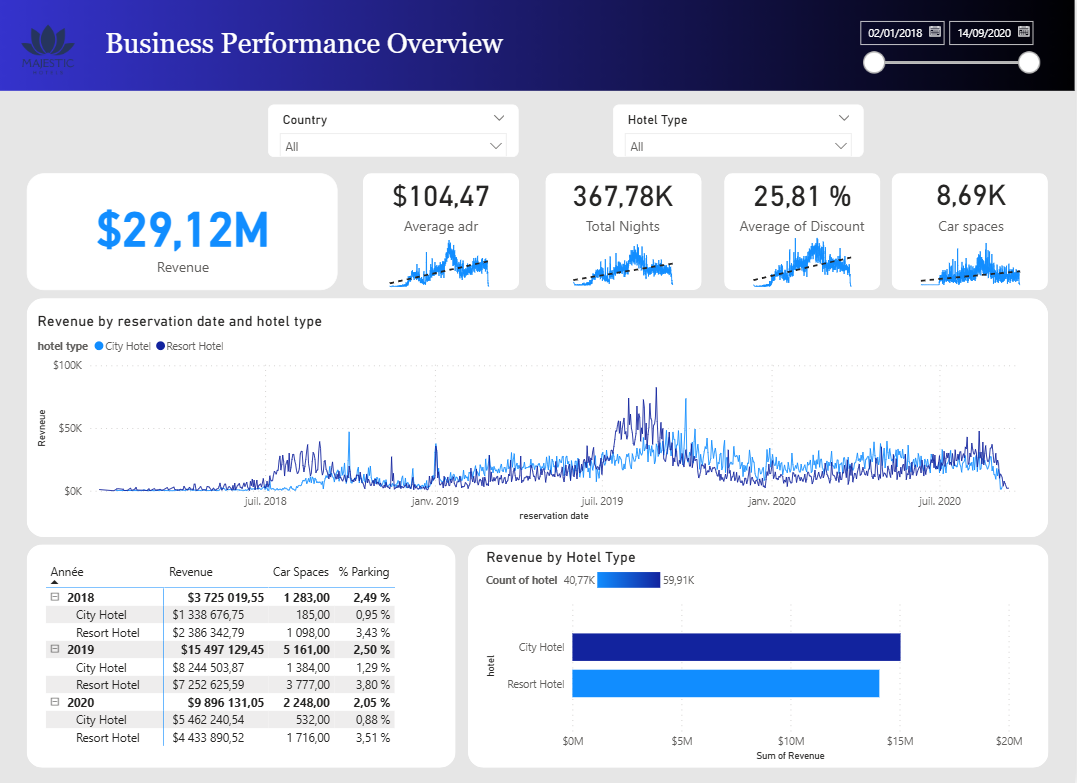

The dashboard page shown, as its layout file describes it:
{"tool":"powerbi","page":{"name":"Page 1","canvas":[1230,900],"ordinal":0},"visuals":[{"type":"image","box":[0,0,1230,123.3],"z":0},{"type":"shape","box":[1021.7,201.7,178.3,133.3],"z":1000},{"type":"shape","box":[830,201.7,178.3,133.3],"z":2000},{"type":"shape","box":[625,201.7,178.3,133.3],"z":3000},{"type":"shape","box":[416.7,201.7,178.3,133.3],"z":4000},{"type":"shape","box":[33.3,625,490,255],"z":5000},{"type":"shape","box":[536.7,625,663.3,255],"z":6000},{"type":"shape","box":[33.3,344.4,1167.1,272.9],"z":7000},{"type":"card","fields":{"Values":["Avg(Requête1.adr)"]},"box":[416.7,183.3,178.3,105],"z":8000},{"type":"card","fields":{"Values":["Sum(Requête1.Revenue)"]},"box":[33.3,201.7,355,133.3],"z":9000},{"type":"card","fields":{"Values":["Requête1.Total Nights"]},"box":[625,183.3,176.7,105],"z":10000},{"type":"card","fields":{"Values":["Avg(Requête1.Discount)"]},"box":[830,183.3,178.3,105],"z":11000},{"type":"lineChart","title":"Revenue by reservation date and hotel type","fields":{"Category":["Requête1.reservation_status_date"],"Y":["Sum(Requête1.Revenue)"],"Series":["Requête1.hotel"]},"box":[40.5,360.1,1144.3,244.3],"z":12000},{"type":"lineChart","fields":{"Category":["Requête1.reservation_status_date"],"Y":["Requête1.Total Nights"]},"box":[643.3,255,143.3,80],"z":13000},{"type":"lineChart","fields":{"Category":["Requête1.reservation_status_date"],"Y":["Sum(Requête1.adr)"]},"box":[433.3,256.7,143.3,80],"z":14000},{"type":"lineChart","fields":{"Category":["Requête1.reservation_status_date"],"Y":["Sum(Requête1.Discount)"]},"box":[848.3,256.7,141.7,80],"z":15000},{"type":"card","fields":{"Values":["Sum(Requête1.required_car_parking_spaces)"]},"box":[1031.7,183.3,161.7,103.3],"z":16000},{"type":"lineChart","fields":{"Category":["Requête1.reservation_status_date"],"Y":["Sum(Requête1.required_car_parking_spaces)"]},"box":[1040,250,143.3,85],"z":17000},{"type":"barChart","title":"Revenue by Hotel Type","fields":{"Category":["Requête1.hotel"],"Y":["Sum(Requête1.Revenue)"]},"box":[553.3,630,623.3,248.3],"z":18000},{"type":"pivotTable","fields":{"Rows":["Requête1.reservation_status_date.Variation.Hiérarchie de dates.Année","Requête1.hotel"],"Values":["Sum(Requête1.Revenue)","Sum(Requête1.required_car_parking_spaces)","Requête1.Parking percentage"]},"box":[50,641.4,455.7,222.9],"z":19000},{"type":"slicer","fields":{"Values":["Requête1.reservation_status_date"]},"box":[973.3,16.7,226.7,85],"z":20000},{"type":"image","box":[0,0,114.3,122.9],"z":21000},{"type":"textbox","box":[116.7,30,500,60],"z":22000},{"type":"slicer","fields":{"Values":["Requête1.country"]},"box":[308.3,123.3,286.7,60],"z":23000},{"type":"slicer","fields":{"Values":["Requête1.hotel"]},"box":[703.3,123.3,286.7,60],"z":24000}]}

Visuals, with their boxes in screenshot pixels (x1, y1, x2, y2), scaled from the page's 1230x900 canvas onto the 1077x783 screenshot:
image: locate(0, 0, 1076, 107)
shape: locate(895, 175, 1051, 291)
shape: locate(727, 175, 883, 291)
shape: locate(547, 175, 703, 291)
shape: locate(365, 175, 521, 291)
shape: locate(29, 544, 458, 766)
shape: locate(470, 544, 1051, 766)
shape: locate(29, 300, 1051, 537)
card - Avg(Requête1.adr): locate(365, 159, 521, 251)
card - Sum(Requête1.Revenue): locate(29, 175, 340, 291)
card - Requête1.Total Nights: locate(547, 159, 702, 251)
card - Avg(Requête1.Discount): locate(727, 159, 883, 251)
"Revenue by reservation date and hotel type" lineChart: locate(35, 313, 1037, 526)
lineChart - Requête1.reservation_status_date x Requête1.Total Nights: locate(563, 222, 689, 291)
lineChart - Requête1.reservation_status_date x Sum(Requête1.adr): locate(379, 223, 505, 293)
lineChart - Requête1.reservation_status_date x Sum(Requête1.Discount): locate(743, 223, 867, 293)
card - Sum(Requête1.required_car_parking_spaces): locate(903, 159, 1045, 249)
lineChart - Requête1.reservation_status_date x Sum(Requête1.required_car_parking_spaces): locate(911, 218, 1036, 291)
"Revenue by Hotel Type" barChart: locate(484, 548, 1030, 764)
pivotTable - Requête1.reservation_status_date.Variation.Hiérarchie de dates.Année x Requête1.hotel: locate(44, 558, 443, 752)
slicer - Requête1.reservation_status_date: locate(852, 15, 1051, 88)
image: locate(0, 0, 100, 107)
textbox: locate(102, 26, 540, 78)
slicer - Requête1.country: locate(270, 107, 521, 159)
slicer - Requête1.hotel: locate(616, 107, 867, 159)
